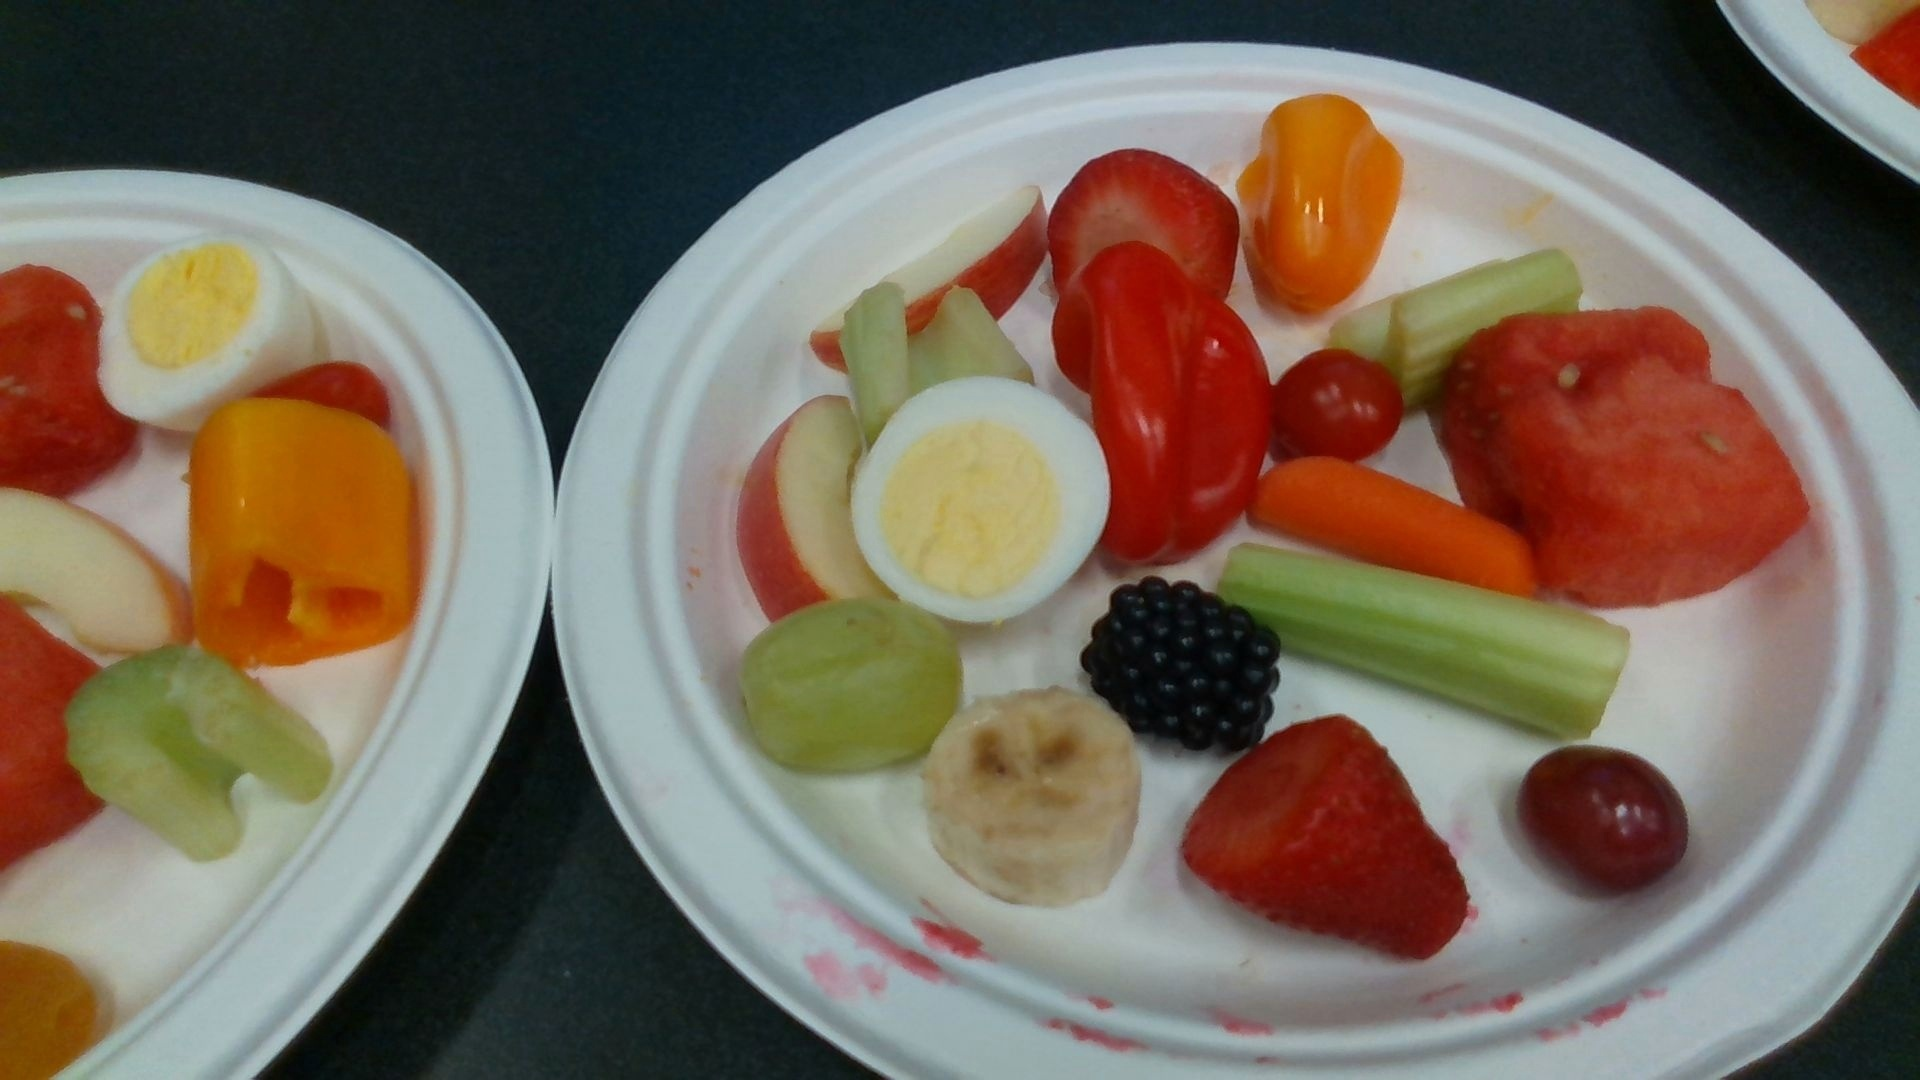apple: (810, 183, 1047, 363), (740, 400, 889, 622), (1, 487, 187, 655)
apricot: (1, 943, 98, 1079)
banana: (927, 691, 1137, 905)
bell_pepper: (1055, 243, 1269, 570), (190, 398, 414, 665), (1240, 95, 1404, 311)
blackberry: (1084, 578, 1284, 750)
carrot: (1247, 456, 1540, 603)
celery: (1220, 545, 1629, 733), (62, 647, 330, 861), (1331, 251, 1582, 396), (840, 286, 1036, 440)
cherry_tomato: (1265, 351, 1402, 460)
egg: (855, 378, 1109, 618), (94, 233, 314, 431)
grape_green: (738, 596, 964, 765)
grape_purple: (1519, 750, 1689, 887)
melon: (1429, 306, 1805, 605), (1, 266, 135, 498), (1, 603, 102, 873)
strawberry: (1184, 721, 1469, 961), (1048, 150, 1237, 295)
